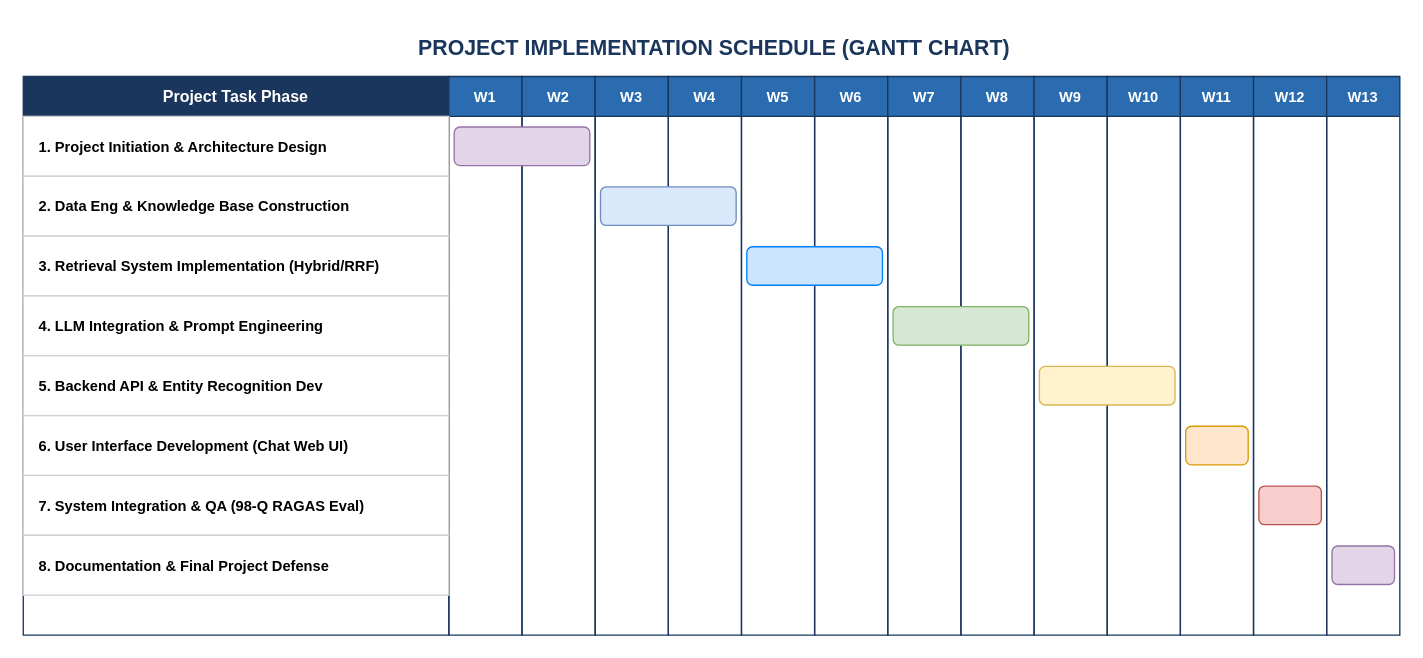
The diagram is 1423 pixels wide and 658 high, and some of its shapes have lost their labels. The shapes that lost their labels are listed below. From the top down, each one's centre as x and y in pixels, then its label:
At [521,146]: "Weeks 1-2".
At [667,205]: "Weeks 3-4".
At [813,265]: "Weeks 5-6".
At [960,325]: "Weeks 7-8".
At [1106,385]: "Weeks 9-10".
At [1216,445]: "Weeks 11".
At [1289,505]: "Weeks 12".
At [1363,565]: "Weeks 13".
